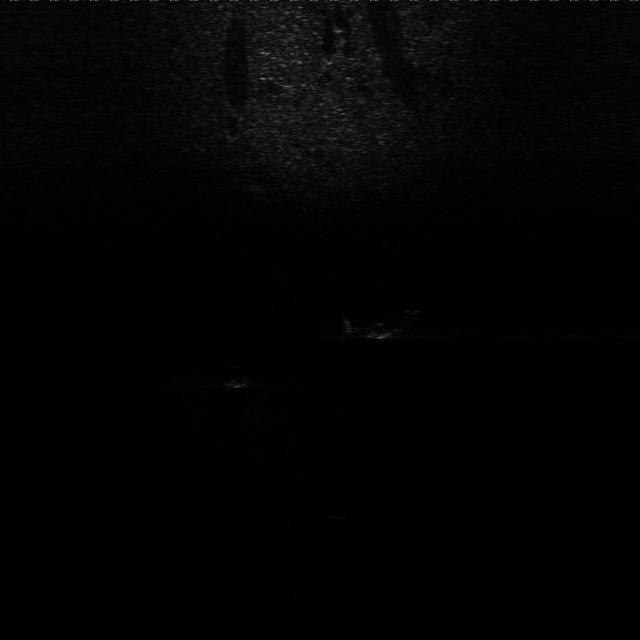ball: (226, 364, 260, 392)
human body: (338, 305, 438, 341)
